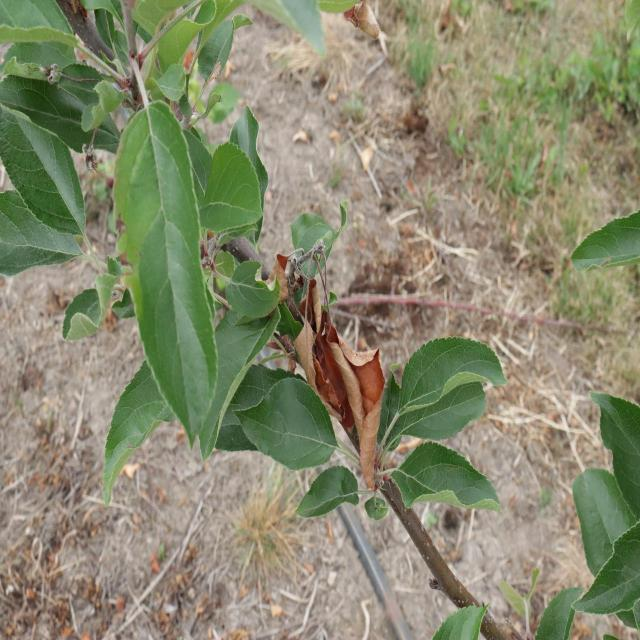-FireBlight-: (268, 245, 388, 483)
